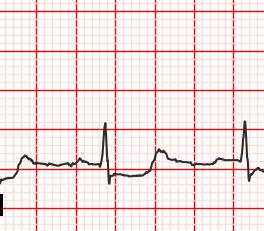ST Depression: (94, 157, 153, 187)
